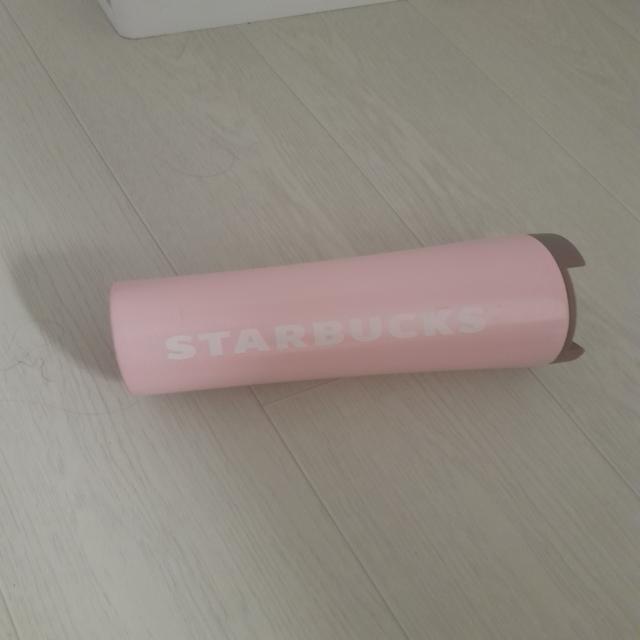waterbottle: (113, 230, 588, 390)
